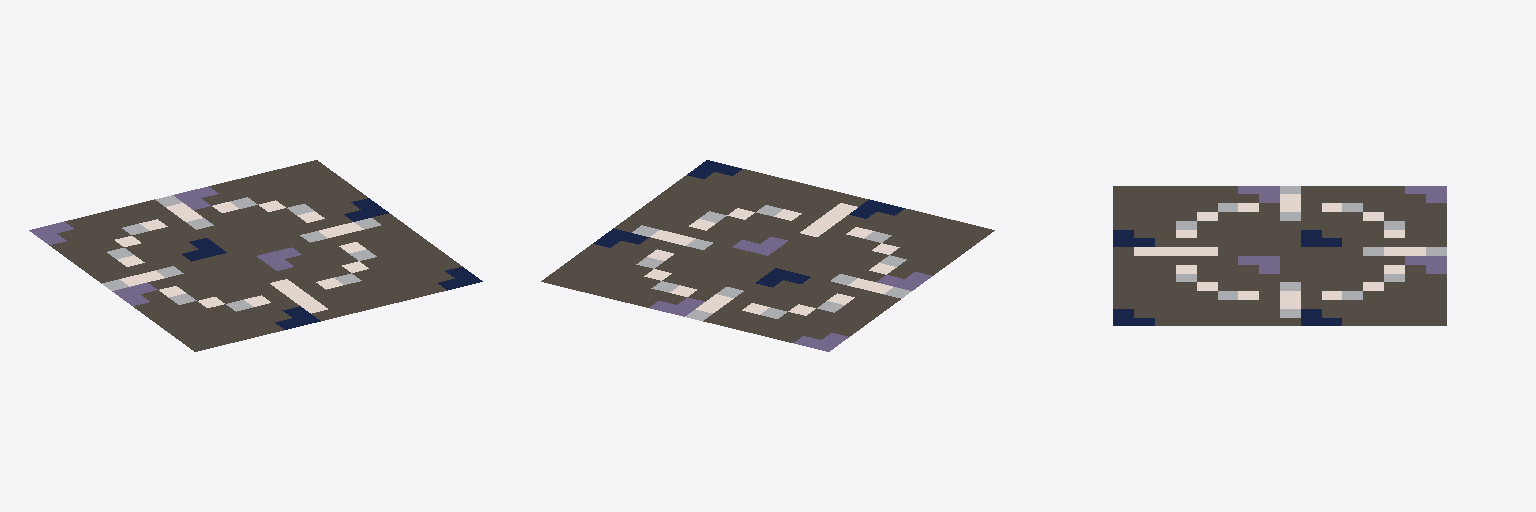
3 views of the same model, side by side, from view 1: azimuth 30°, elevation 25°; view 2: azimuth 150°, elevation 25°; view 3: azimuth 270°, elevation 25° (orthographic).
Parts seen in each view (by area): view 1: tarmac1; view 2: tarmac1; view 3: tarmac1.
Boxes of the visible parts, x1,y1,x2,y2 form: tarmac1: [29, 160, 482, 351]; tarmac1: [541, 160, 994, 351]; tarmac1: [1113, 186, 1446, 325].
Size of the model in its own units: 2 by 0 by 2.
Materials: 1 (1 with a texture image).